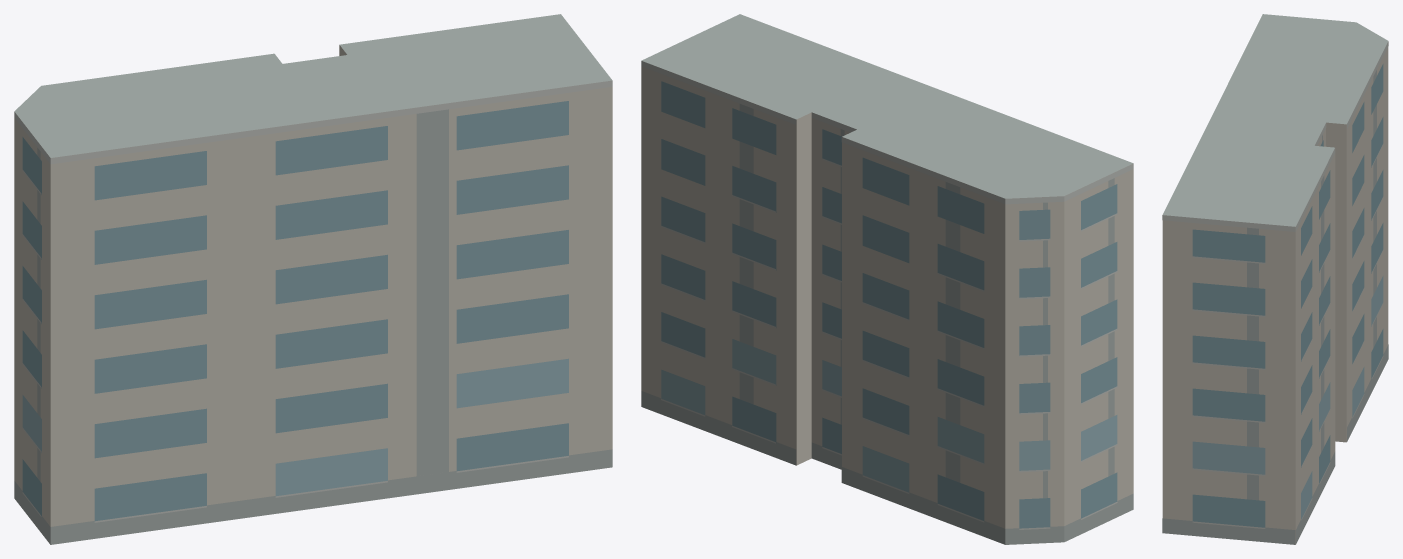
The model's file is survey-upis-32795690.glb.
The picture shows the model from 3 angles, left to right: view 1: azimuth 30°, elevation 25°; view 2: azimuth 150°, elevation 25°; view 3: azimuth 270°, elevation 25°; orthographic projection. The views are drawn at different scales.
Visible parts, largest first — view 1: survey-upis-32795690.tmp; view 2: survey-upis-32795690.tmp; view 3: survey-upis-32795690.tmp.
Boxes of the visible parts, x1,y1,x2,y2 form: survey-upis-32795690.tmp: (14, 14, 612, 544); survey-upis-32795690.tmp: (641, 14, 1133, 544); survey-upis-32795690.tmp: (1162, 14, 1388, 544).
Bounding box in the file's own units: 21.53 × 15 × 9.67.
